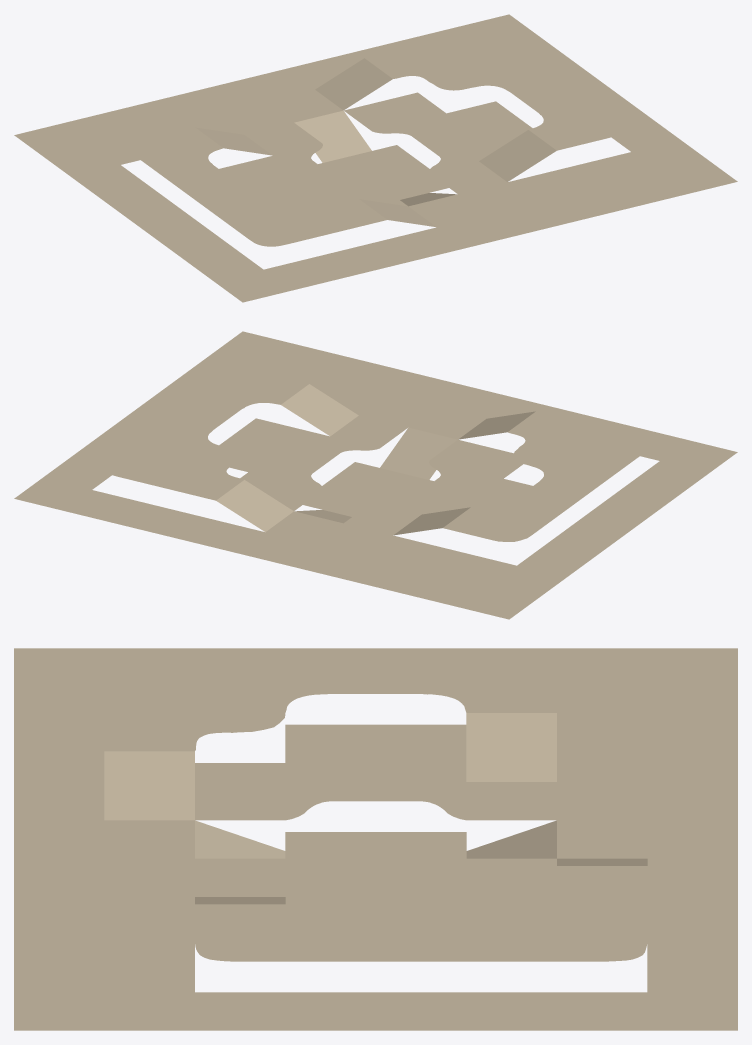
Rendered from map_layout.fbx.
3 views of the same model, one above another, from view 1: azimuth 30°, elevation 25°; view 2: azimuth 150°, elevation 25°; view 3: azimuth 270°, elevation 25° (orthographic). The views are drawn at different scales.
Parts seen in each view (by area): view 1: game_board; view 2: game_board; view 3: game_board.
Part boxes in pixels (<box>): game_board: <box>14,14,737,302</box>; game_board: <box>14,331,737,619</box>; game_board: <box>14,648,737,1030</box>.
Bounding box in the file's own units: 4000 × 300 × 3200.
